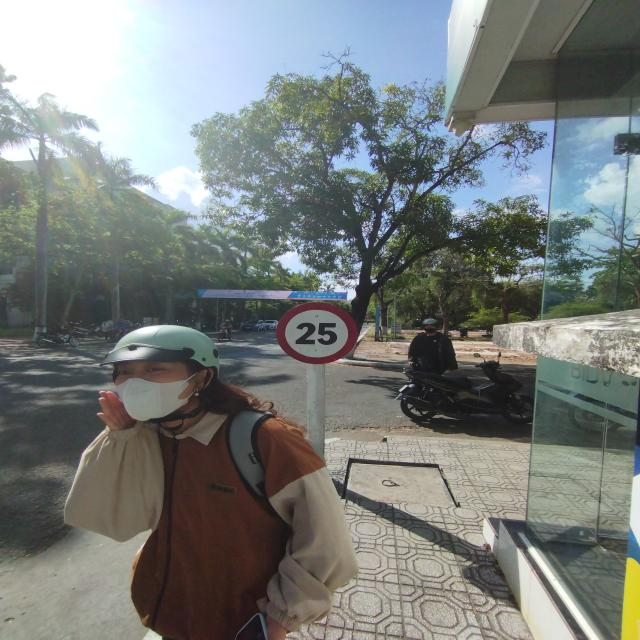Tre_Em: (276, 302, 358, 364)
